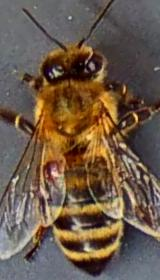varroa_mite: (35, 156, 64, 187)
